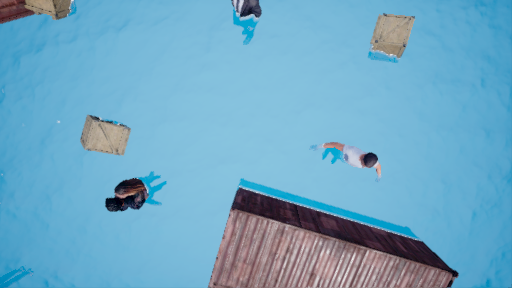person: (302, 143, 394, 186), (101, 177, 175, 217), (232, 1, 267, 47)
